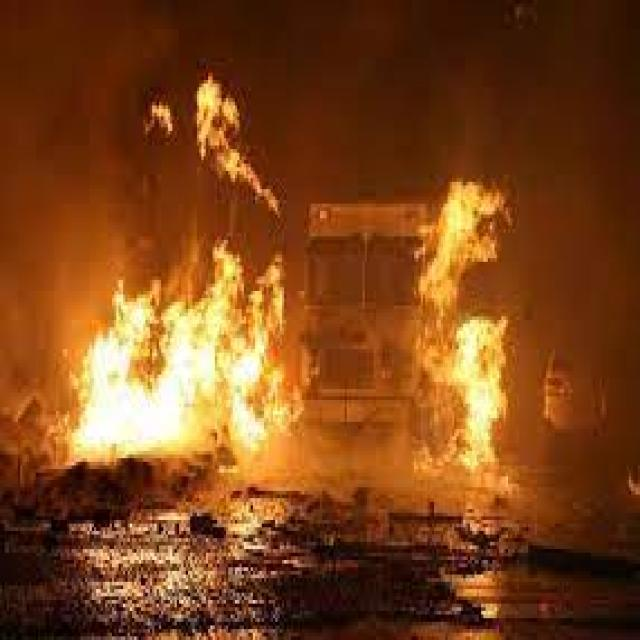fire: (65, 55, 309, 469), (423, 168, 521, 476)
